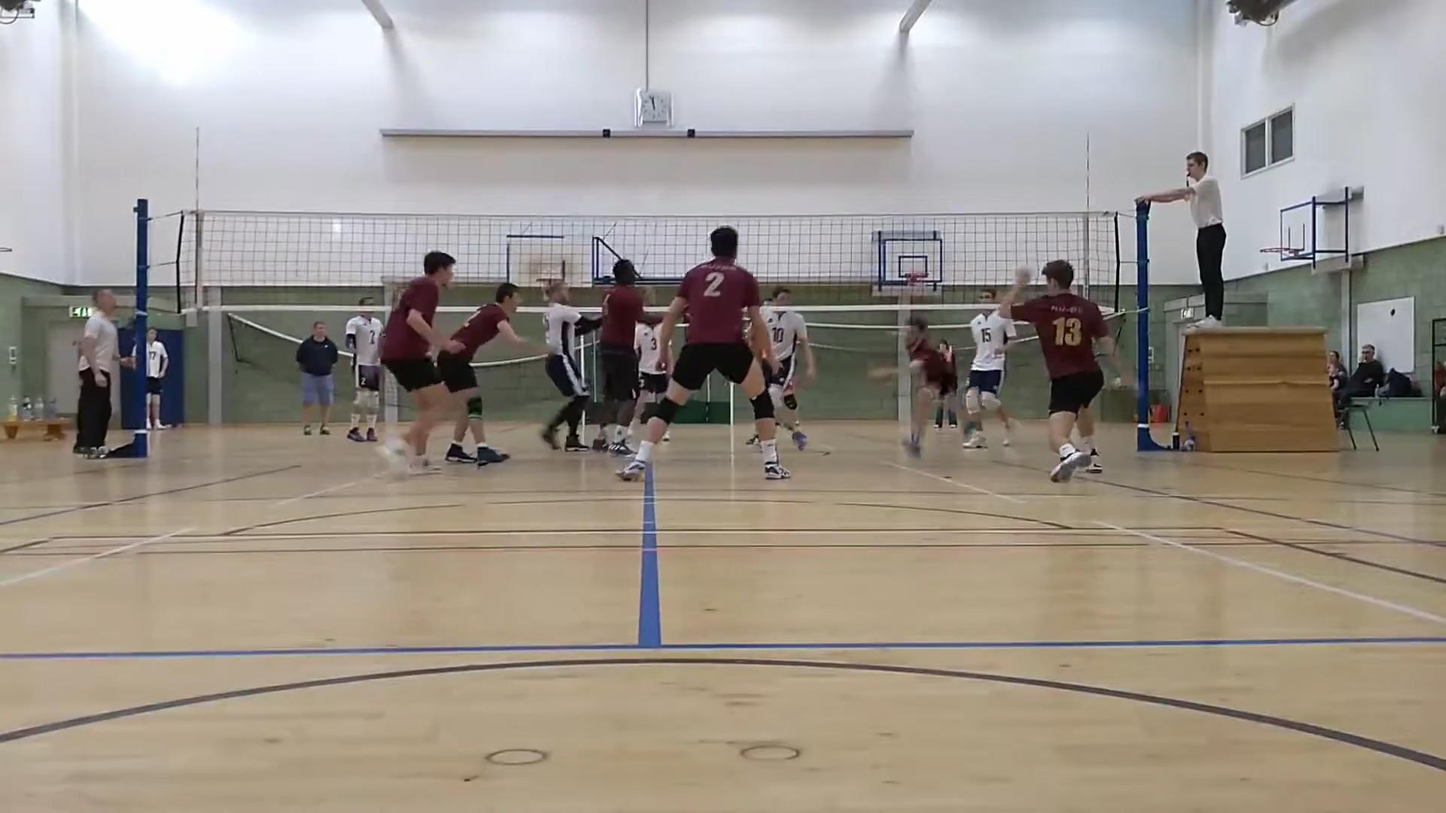difesa: (860, 312, 980, 459)
